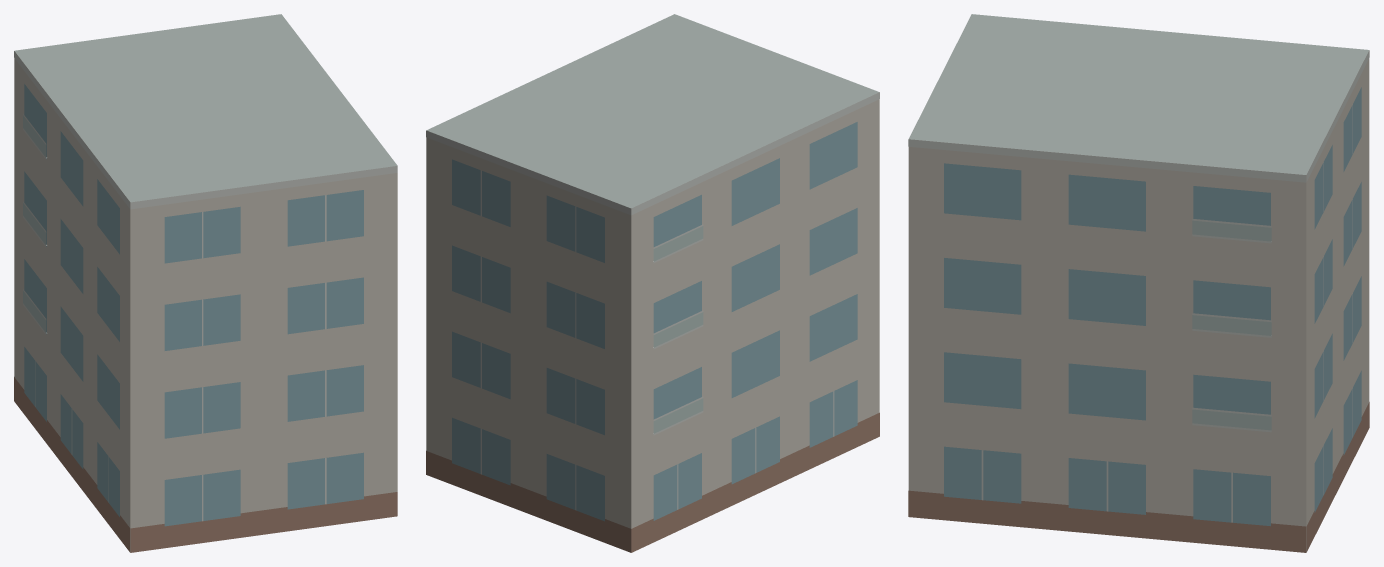
Rendered from residential-c3cb9f8d-3aa3-4229-b462-17bff77e2f9f.glb.
3 renders of one model, left to right at view 1: azimuth 30°, elevation 25°; view 2: azimuth 150°, elevation 25°; view 3: azimuth 270°, elevation 25°, orthographic. The views are drawn at different scales.
Parts seen in each view (by area): view 1: residential-c3cb9f8d-3aa3-4229-b462-17bff77e2f9f.tmp; view 2: residential-c3cb9f8d-3aa3-4229-b462-17bff77e2f9f.tmp; view 3: residential-c3cb9f8d-3aa3-4229-b462-17bff77e2f9f.tmp.
Boxes of the visible parts, bbox=[...] form: residential-c3cb9f8d-3aa3-4229-b462-17bff77e2f9f.tmp: bbox=[14, 14, 397, 552]; residential-c3cb9f8d-3aa3-4229-b462-17bff77e2f9f.tmp: bbox=[426, 14, 879, 552]; residential-c3cb9f8d-3aa3-4229-b462-17bff77e2f9f.tmp: bbox=[908, 14, 1369, 552].
Bounding box in the file's own units: 11.17 × 12.2 × 13.5.
